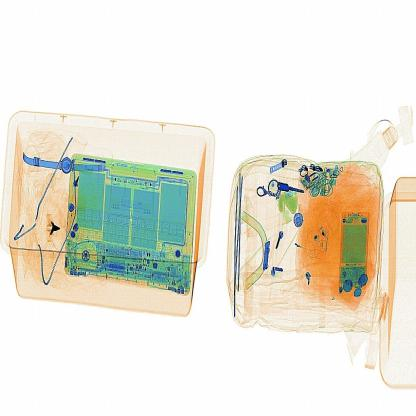gun: (35, 204, 68, 245)
